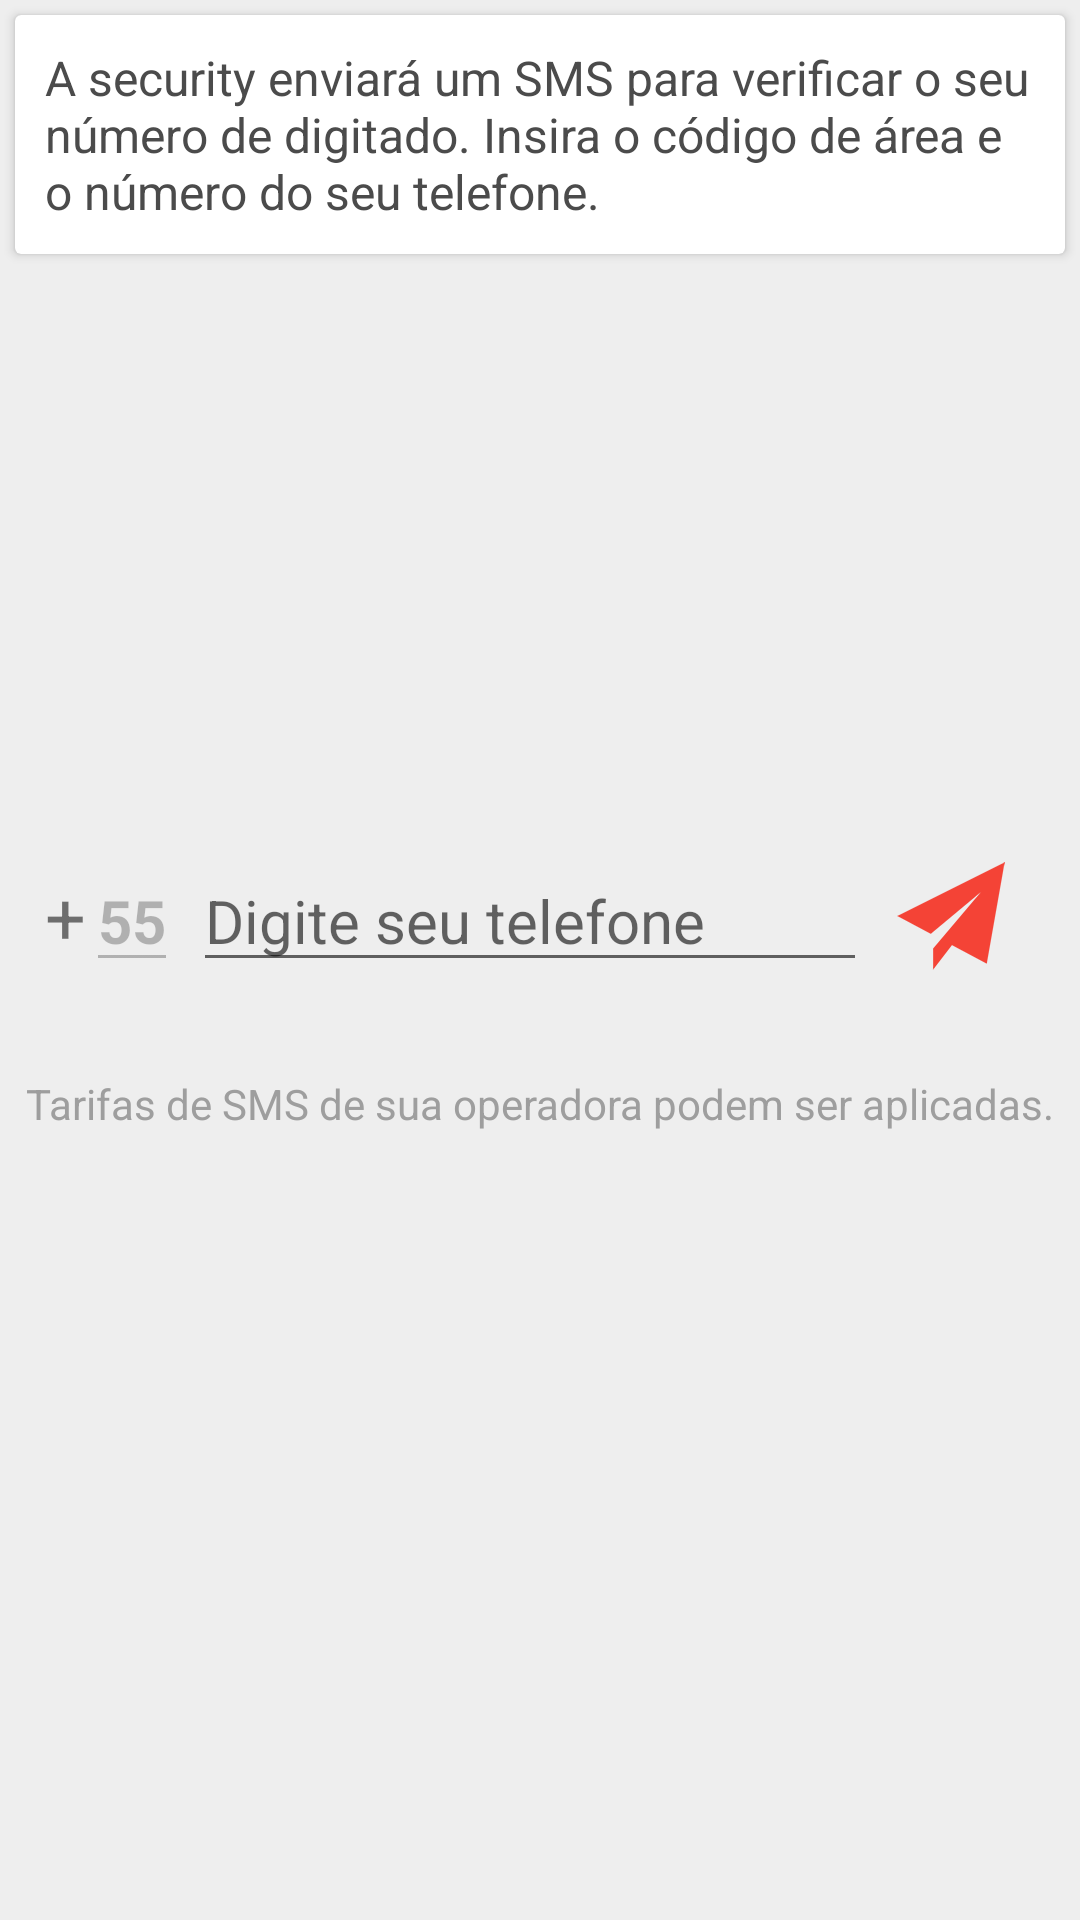

Where to tap for icons on this 1080 × 1920 app screen, as (x=x, y=y):
send: (x=951, y=916)
